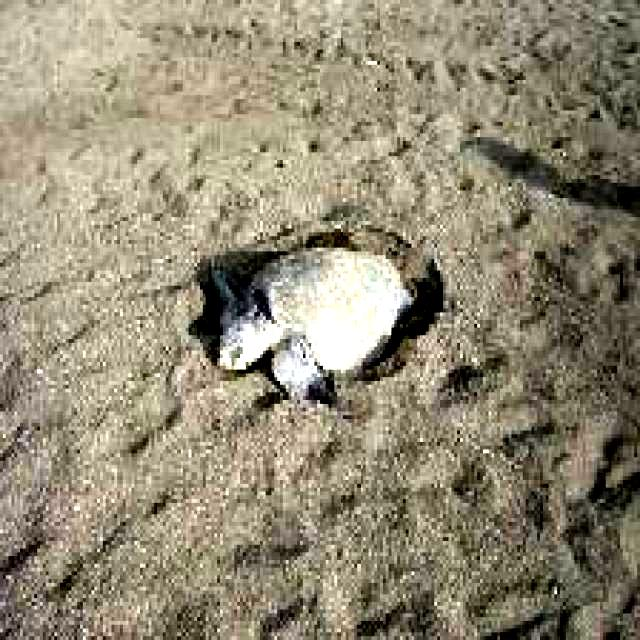Sea turtle: (202, 238, 434, 396)
